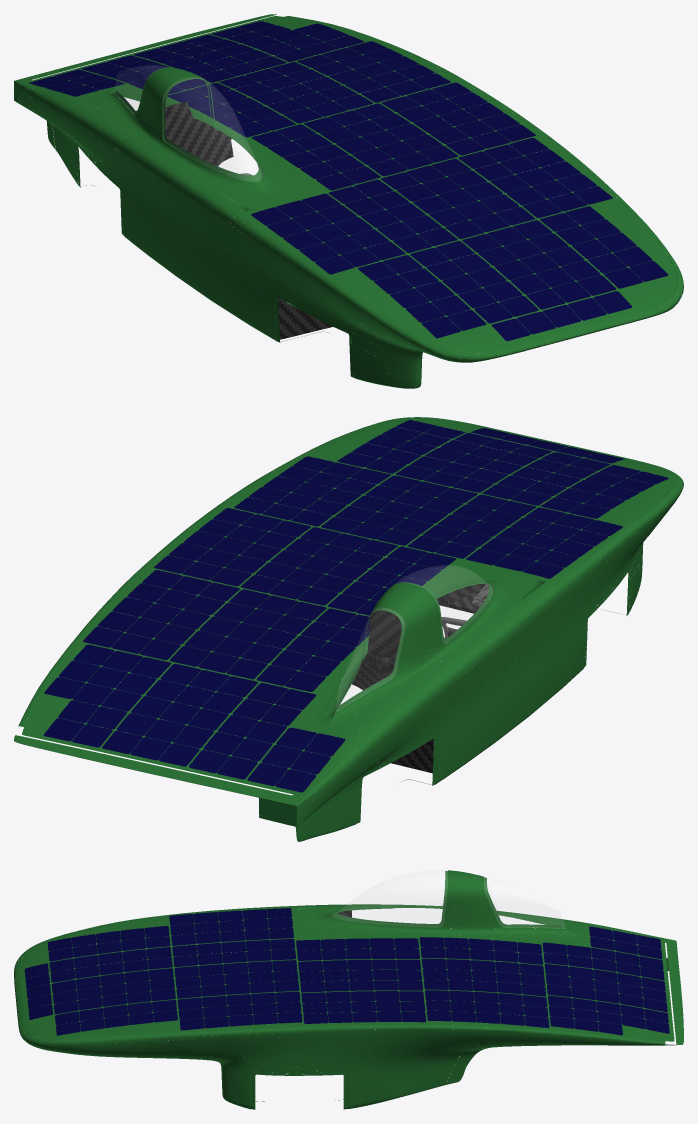
The picture shows the model from 3 angles, top to bottom: view 1: azimuth 30°, elevation 25°; view 2: azimuth 150°, elevation 25°; view 3: azimuth 270°, elevation 25°; orthographic projection. The views are drawn at different scales.
Visible parts, largest first — view 1: TDSR base model as a part-1-surface14, Leon.007, 2025SS-01-001 final assembly revision 19-01.048; view 2: TDSR base model as a part-1-surface14, Leon.007, 2025SS-01-001 final assembly revision 19-01.048; view 3: TDSR base model as a part-1-surface14, Leon.007.
Boxes of the visible parts, x1,y1,x2,y2 form: TDSR base model as a part-1-surface14: [29, 21, 668, 341]; Leon.007: [14, 14, 683, 388]; 2025SS-01-001 final assembly revision 19-01.048: [158, 101, 399, 339]; TDSR base model as a part-1-surface14: [44, 420, 668, 792]; Leon.007: [14, 417, 683, 841]; 2025SS-01-001 final assembly revision 19-01.048: [352, 515, 535, 773]; TDSR base model as a part-1-surface14: [24, 908, 669, 1035]; Leon.007: [14, 870, 683, 1109].
Bounding box in the file's own units: 0.0203 × 0.00988 × 0.0447.
5 materials, 1 textured.
